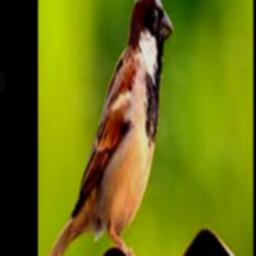Sparrow: (40, 0, 175, 256)
